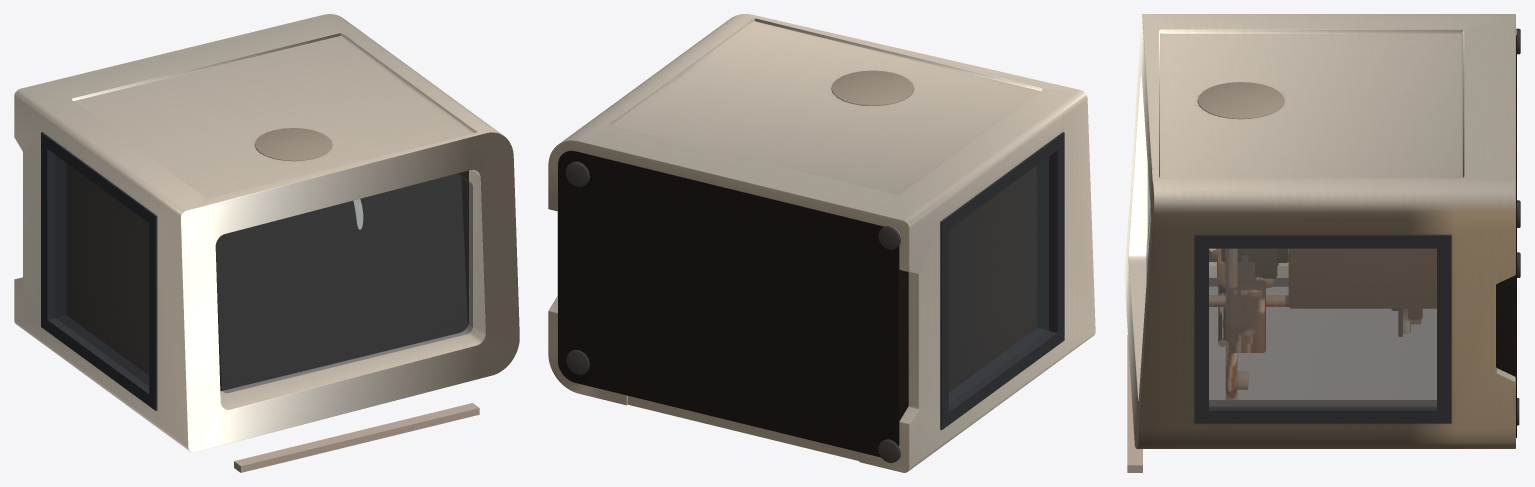
Rendered from deltrol_p2s_photoreal_v2_upper_graft.glb.
3 views of the same model, side by side, from view 1: azimuth 30°, elevation 25°; view 2: azimuth 150°, elevation 25°; view 3: azimuth 270°, elevation 25° (orthographic). The views are drawn at different scales.
Visible parts, largest first — view 1: unibody_shell, top_roof_glass, interior_ceiling_liner, left_glass_window, interior_left_back_baffle, left_window_gasket, photoreal_v2_door_top_rail, rear_exhaust_shroud; view 2: unibody_shell, chassis_recessed_plinth, left_glass_window, interior_left_back_baffle, left_window_gasket, rear_exhaust_shroud; view 3: unibody_shell, right_glass_sheen, right_glass_window, front_glass_door, right_window_gasket, interior_rear_electronics_box, x_gantry_crossbeam, rear_exhaust_shroud, chassis_recessed_plinth, x_guide_front, photoreal_v2_door_top_rail, toolhead_chassis.
Part boxes in pixels (x1,y1,x2,y2): unibody_shell: [14, 14, 519, 452]; top_roof_glass: [215, 173, 472, 393]; interior_ceiling_liner: [215, 170, 468, 391]; left_glass_window: [55, 155, 149, 385]; interior_left_back_baffle: [66, 163, 149, 374]; left_window_gasket: [41, 132, 157, 410]; photoreal_v2_door_top_rail: [234, 403, 479, 472]; rear_exhaust_shroud: [254, 128, 332, 161]; unibody_shell: [548, 14, 1095, 472]; chassis_recessed_plinth: [558, 150, 908, 457]; left_glass_window: [948, 157, 1048, 403]; interior_left_back_baffle: [948, 165, 1036, 391]; left_window_gasket: [940, 132, 1064, 429]; rear_exhaust_shroud: [831, 70, 914, 106]; unibody_shell: [1124, 14, 1515, 448]; right_glass_sheen: [1209, 249, 1436, 405]; right_glass_window: [1209, 249, 1436, 405]; front_glass_door: [1209, 283, 1436, 399]; right_window_gasket: [1194, 234, 1451, 423]; interior_rear_electronics_box: [1209, 249, 1436, 308]; x_gantry_crossbeam: [1229, 255, 1265, 352]; rear_exhaust_shroud: [1197, 82, 1284, 119]; chassis_recessed_plinth: [1496, 35, 1516, 437]; x_guide_front: [1209, 249, 1401, 399]; photoreal_v2_door_top_rail: [1127, 335, 1142, 472]; toolhead_chassis: [1221, 249, 1276, 278].
Size of the model in its own units: 0.426 by 0.321 by 0.3818.
Materials: 19 (14 with a texture image).
